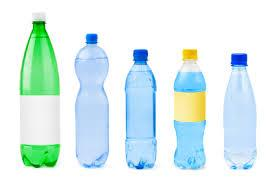Plastic bottle: (20, 11, 64, 170), (71, 30, 116, 172), (220, 46, 260, 172), (170, 50, 208, 172), (124, 45, 159, 173)
